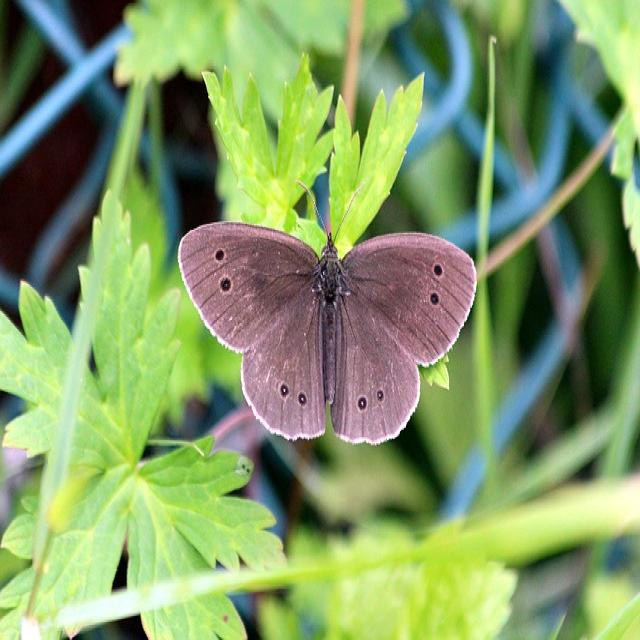butterfly: (179, 174, 478, 448)
